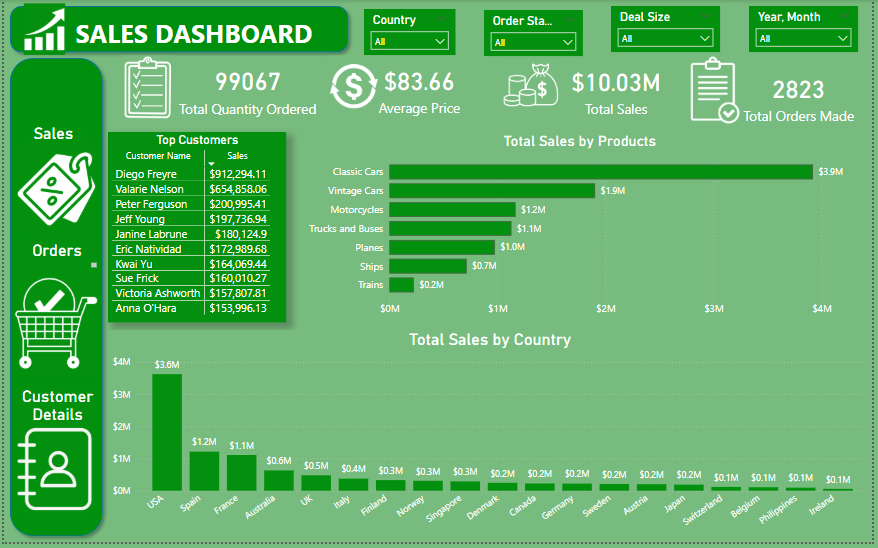

The dashboard page shown, as its layout file describes it:
{"tool":"powerbi","page":{"name":"Sales","canvas":[1280,800],"ordinal":0},"visuals":[{"type":"shape","box":[0,0,517.1,86.2],"z":0},{"type":"textbox","box":[100.4,19.7,431.1,67.5],"z":1000},{"type":"shape","box":[0,76.4,154.5,723.6],"z":2000},{"type":"card","fields":{"Values":["sales_data_new.QUANTITYORDERED"]},"box":[247.2,82.9,226,95.9],"z":3000},{"type":"card","fields":{"Values":["sales_data_new.PRICEEACH"]},"box":[531.7,81.3,162.6,97.6],"z":4000},{"type":"card","fields":{"Values":["sales_data_new.SALES"]},"box":[816.3,82.9,174,97.6],"z":5000},{"type":"card","fields":{"Values":["sales_data_new.ORDERNUMBER"]},"box":[1084.6,92.7,175.6,97.6],"z":6000},{"type":"tableEx","title":"Top Customers","fields":{"Values":["sales_data_new.CONTACTFULLNAME","sales_data_new.SALES"]},"box":[152.8,195.1,263.4,281.3],"z":7000},{"type":"barChart","fields":{"Category":["sales_data_new.PRODUCTLINE"],"Y":["sales_data_new.SALES"]},"box":[437.4,195.1,826,281.3],"z":8000},{"type":"clusteredColumnChart","fields":{"Category":["sales_data_new.COUNTRY"],"Y":["sales_data_new.SALES"]},"box":[154.5,487.8,1125.2,312.2],"z":9000},{"type":"slicer","fields":{"Values":["sales_data_new.COUNTRY"]},"box":[531.7,13,135,68.3],"z":10000},{"type":"slicer","fields":{"Values":["sales_data_new.STATUS"]},"box":[708.4,14.6,146.3,68.3],"z":11000},{"type":"slicer","fields":{"Values":["sales_data_new.DEALSIZE"]},"box":[896.5,8.1,161,68.3],"z":12000},{"type":"image","box":[0,616.3,152.8,151.2],"z":13000},{"type":"image","box":[19.5,0,81.3,86.2],"z":14000},{"type":"image","box":[4.9,393.5,148,165.9],"z":15000},{"type":"image","box":[167.5,76.4,91.1,104.1],"z":16000},{"type":"image","box":[975.6,76.4,148,112.2],"z":17000},{"type":"image","box":[717.1,86.2,123.6,113.8],"z":18000},{"type":"image","box":[465,76.4,102.4,100.8],"z":19000},{"type":"image","box":[0,200,154.5,156.1],"z":20000},{"type":"slicer","fields":{"Values":["sales_data_new.ORDERDATE.Variation.Date Hierarchy.Year","sales_data_new.ORDERDATE.Variation.Date Hierarchy.Month"]},"box":[1099.2,8.1,161,68.3],"z":21000},{"type":"textbox","title":"Sales","box":[39,183.7,87.8,30.9],"z":21001},{"type":"textbox","title":"Orders","box":[14.6,356.1,126.8,43.9],"z":21002},{"type":"textbox","title":"Customer Details","box":[14.6,570.7,128.5,56.9],"z":21003}]}

Visuals, with their boxes in screenshot pixels (x1, y1, x2, y2), scaled from the page's 1280x800 canvas onto the 878x548 screenshot:
shape: <bbox>0, 0, 355, 59</bbox>
textbox: <bbox>69, 13, 365, 60</bbox>
shape: <bbox>0, 52, 106, 547</bbox>
card - sales_data_new.QUANTITYORDERED: <bbox>170, 57, 325, 122</bbox>
card - sales_data_new.PRICEEACH: <bbox>365, 56, 476, 123</bbox>
card - sales_data_new.SALES: <bbox>560, 57, 679, 124</bbox>
card - sales_data_new.ORDERNUMBER: <bbox>744, 63, 864, 130</bbox>
"Top Customers" tableEx: <bbox>105, 134, 285, 326</bbox>
barChart - sales_data_new.PRODUCTLINE x sales_data_new.SALES: <bbox>300, 134, 867, 326</bbox>
clusteredColumnChart - sales_data_new.COUNTRY x sales_data_new.SALES: <bbox>106, 334, 877, 547</bbox>
slicer - sales_data_new.COUNTRY: <bbox>365, 9, 457, 56</bbox>
slicer - sales_data_new.STATUS: <bbox>486, 10, 586, 57</bbox>
slicer - sales_data_new.DEALSIZE: <bbox>615, 6, 725, 52</bbox>
image: <bbox>0, 422, 105, 526</bbox>
image: <bbox>13, 0, 69, 59</bbox>
image: <bbox>3, 270, 105, 383</bbox>
image: <bbox>115, 52, 177, 124</bbox>
image: <bbox>669, 52, 771, 129</bbox>
image: <bbox>492, 59, 577, 137</bbox>
image: <bbox>319, 52, 389, 121</bbox>
image: <bbox>0, 137, 106, 244</bbox>
slicer - sales_data_new.ORDERDATE.Variation.Date Hierarchy.Year x sales_data_new.ORDERDATE.Variation.Date Hierarchy.Month: <bbox>754, 6, 864, 52</bbox>
"Sales" textbox: <bbox>27, 126, 87, 147</bbox>
"Orders" textbox: <bbox>10, 244, 97, 274</bbox>
"Customer Details" textbox: <bbox>10, 391, 98, 430</bbox>
